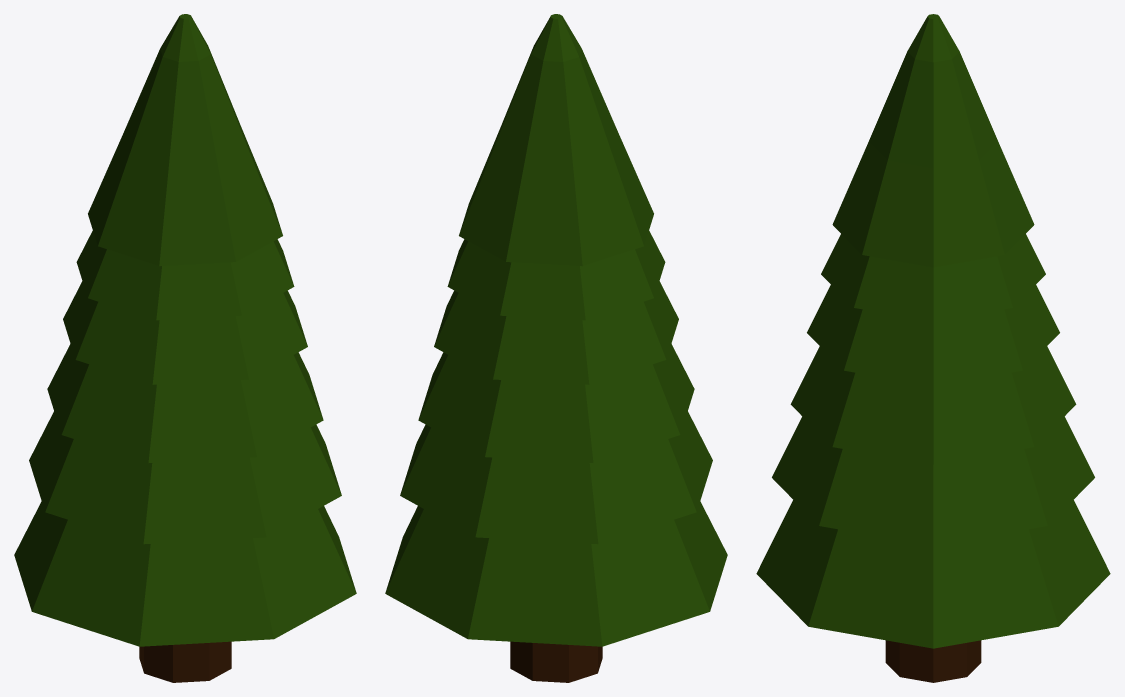
File: fenyofa.glb
3 renders of one model, left to right at view 1: azimuth 30°, elevation 25°; view 2: azimuth 150°, elevation 25°; view 3: azimuth 270°, elevation 25°, orthographic.
Visible parts, largest first — view 1: Cylinder; view 2: Cylinder; view 3: Cylinder.
Boxes of the visible parts, x1,y1,x2,y2 form: Cylinder: [14, 14, 356, 682]; Cylinder: [385, 14, 727, 682]; Cylinder: [756, 14, 1110, 682].
Bounding box in the file's own units: 7.42 × 14.94 × 7.42.
